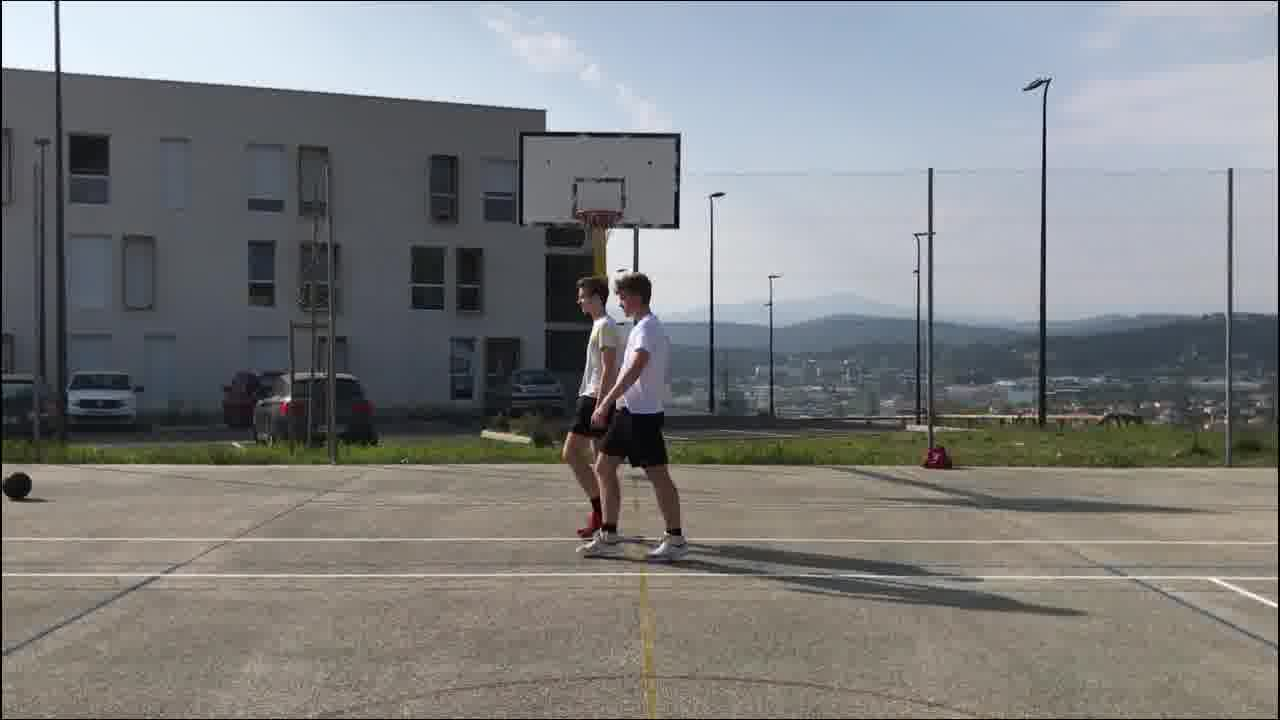jugador: (550, 265, 633, 552)
